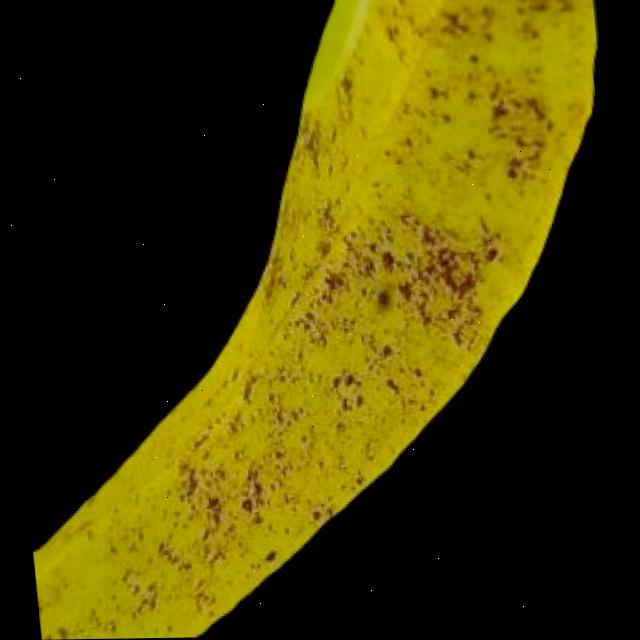mite: (369, 283, 397, 315), (372, 288, 392, 310), (258, 546, 278, 563)
spots: (1, 0, 640, 640)
